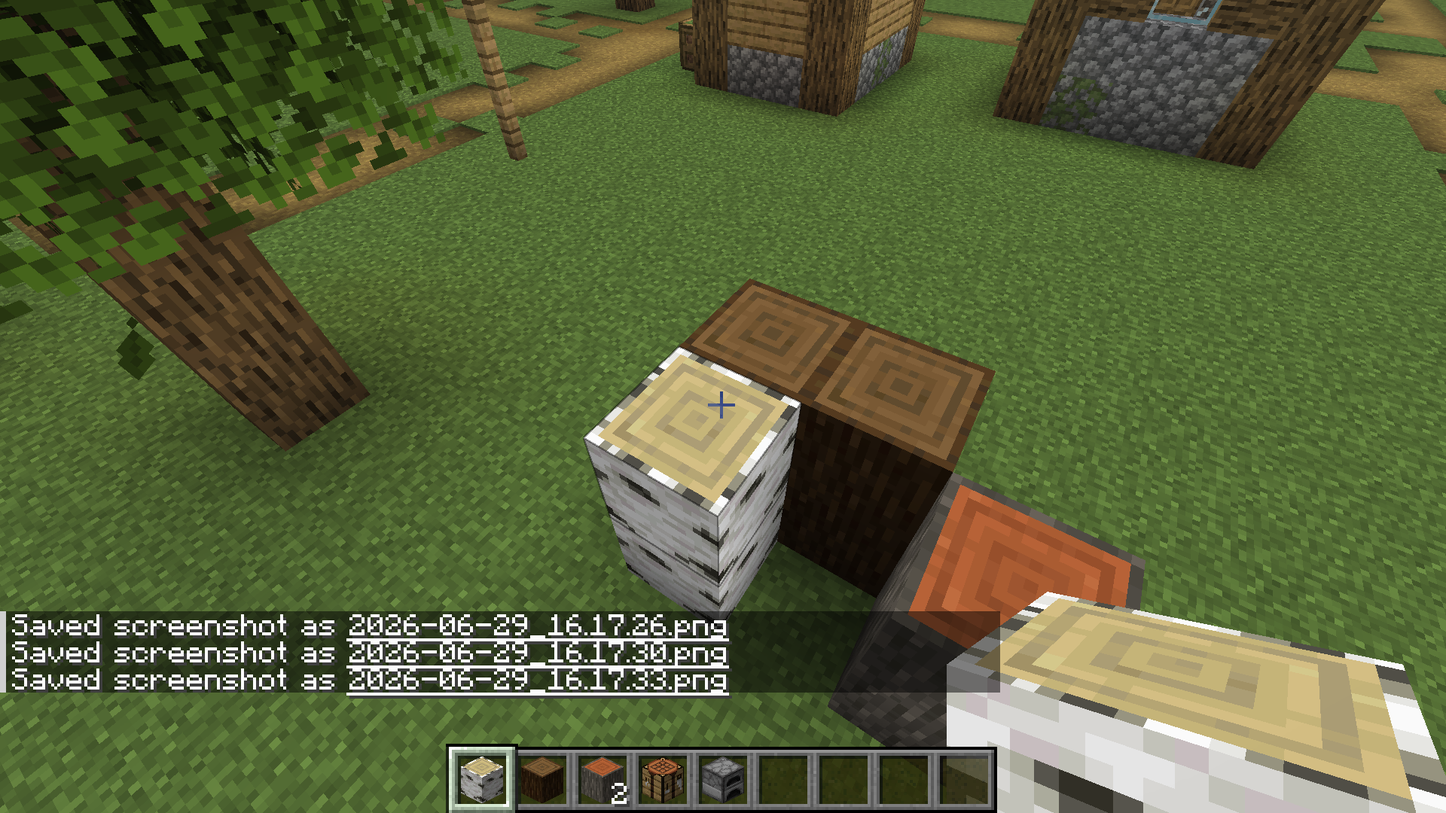Tree: (2, 0, 489, 455)
wood 2: (898, 484, 1145, 654), (830, 621, 956, 745)
wood 3: (682, 281, 994, 470), (777, 401, 954, 598)
wood 4: (947, 598, 1438, 812), (586, 354, 801, 582)
